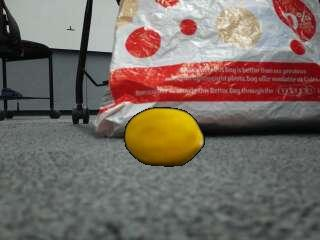lemon: (125, 108, 203, 165)
